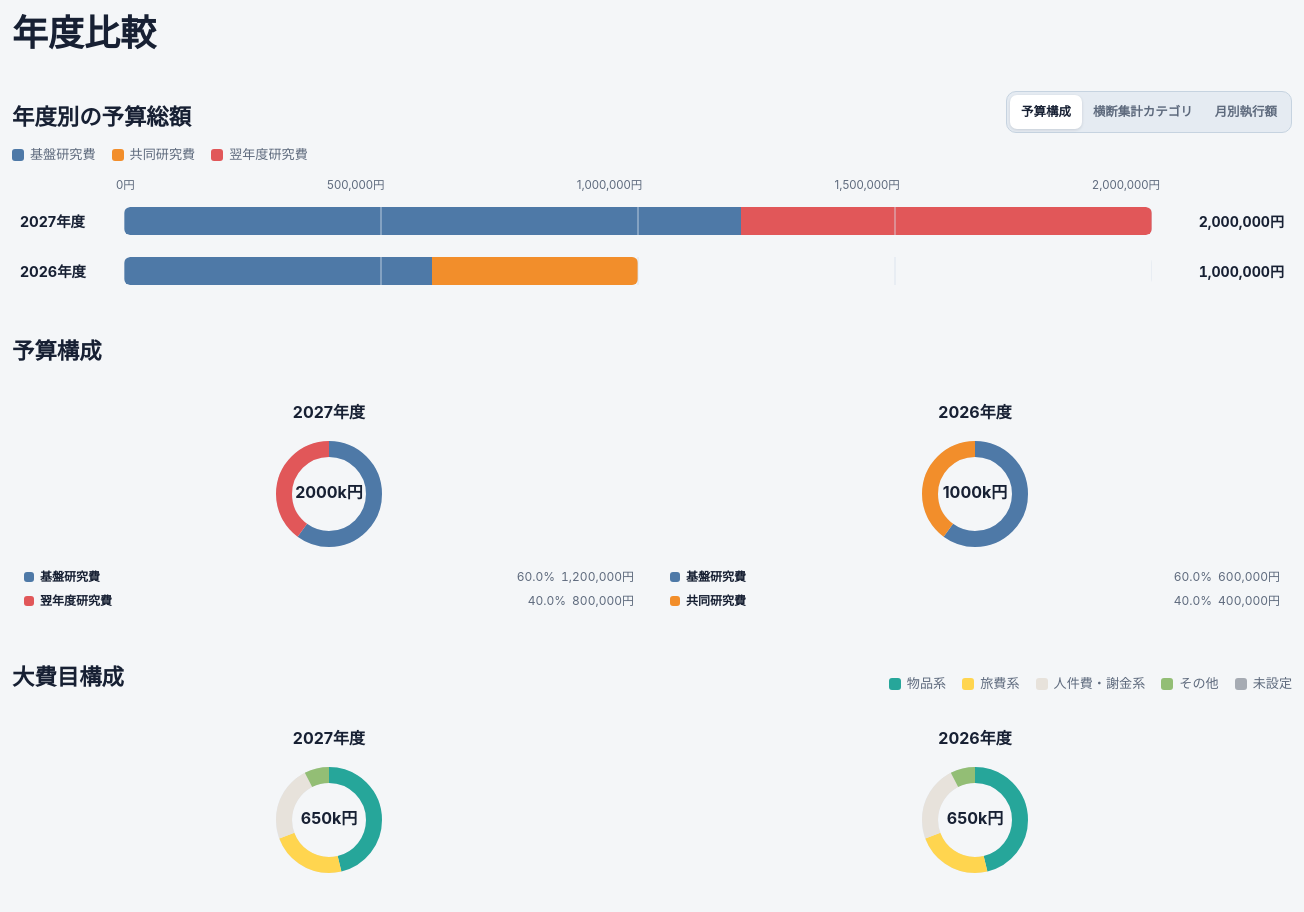
FiscalYearComparisonPage › switches the budget-total breakdown between funds and cross-aggregate categories
Expected: the element "年度別の予算総額" is shown, left=12, top=91, right=1292, bottom=298
Expected: the picture named "2026年度 基盤研究費 600,000円" has style "backgroundColor: #4e79a7", left=124, top=258, right=432, bottom=286
What coordinates should you click on to do the following:
click the button "横断集計カテゴリ"
I would click on:
 (1143, 112)
Its box is left=1082, top=95, right=1204, bottom=129.
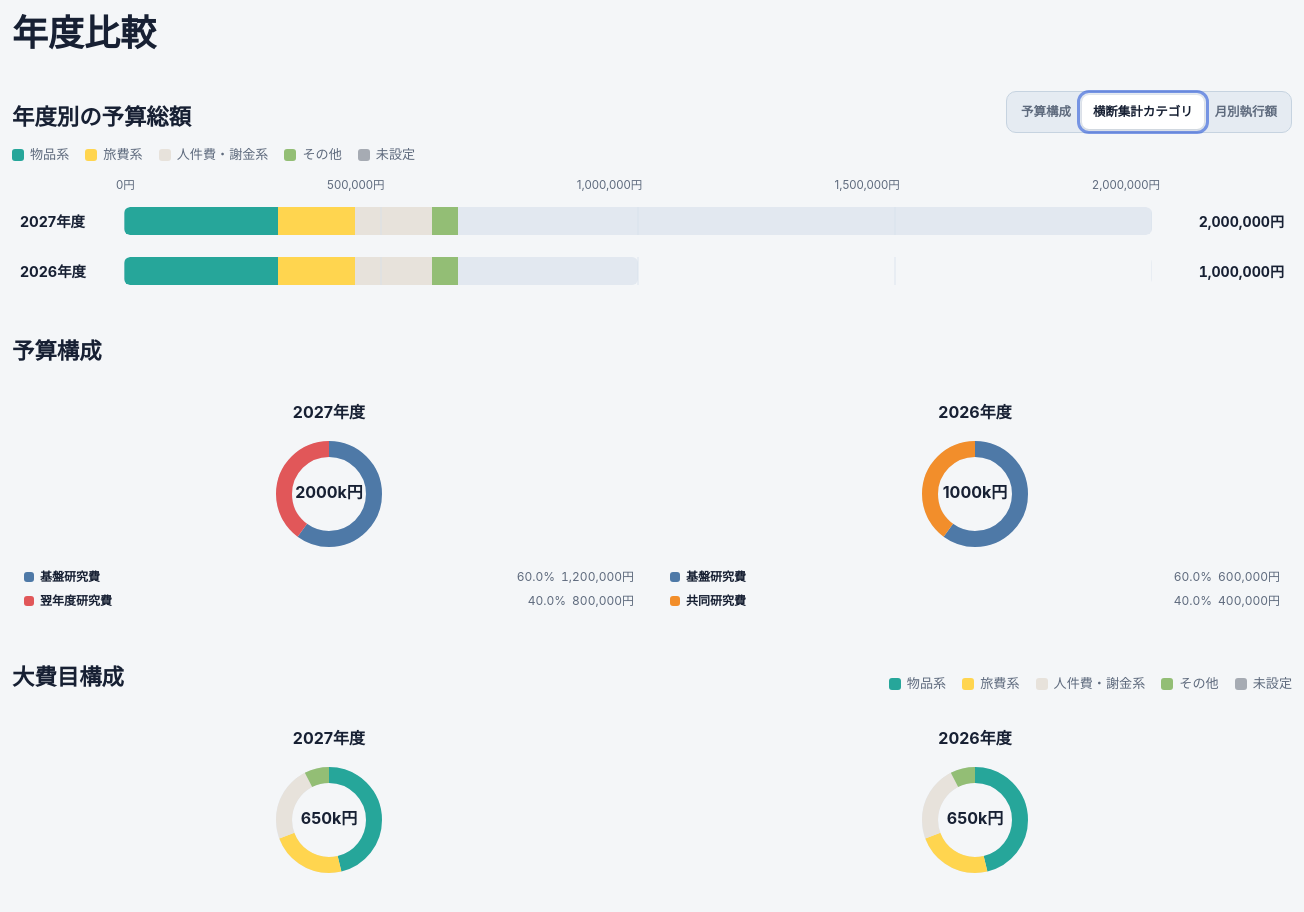
Result: the text "物品系" below "年度別の予算総額" is shown at left=30, top=146, right=69, bottom=162
